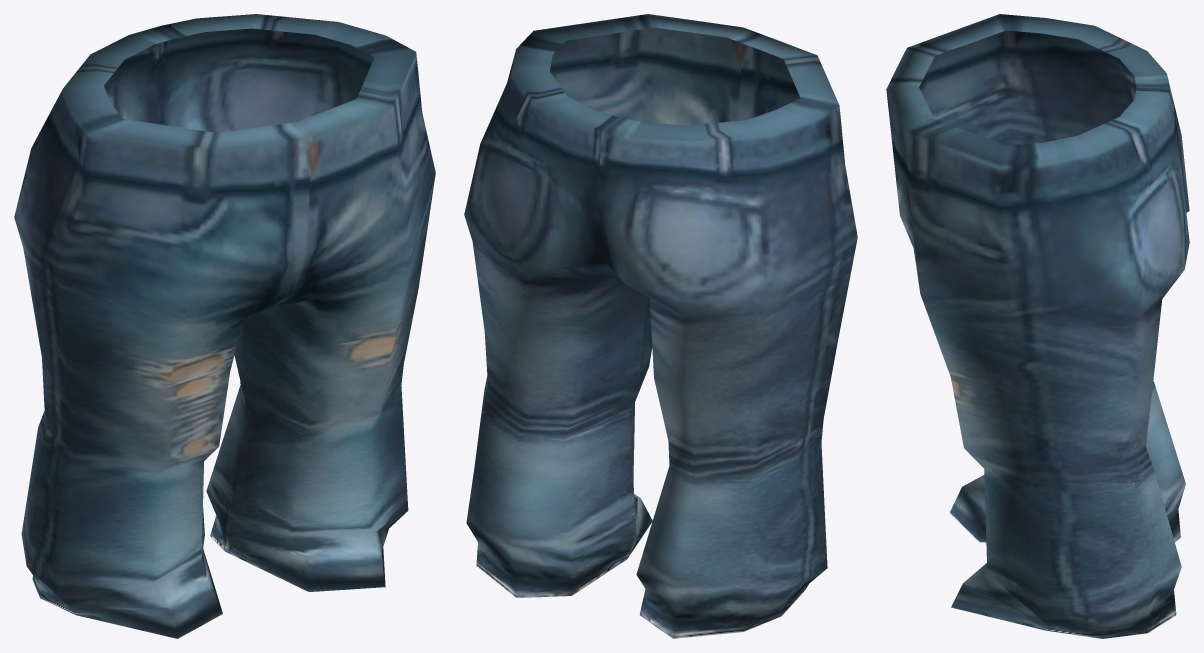
File: AF_M_Trousers_G_04.fbx
3 renders of one model, left to right at view 1: azimuth 30°, elevation 25°; view 2: azimuth 150°, elevation 25°; view 3: azimuth 270°, elevation 25°, orthographic. The views are drawn at different scales.
Parts seen in each view (by area): view 1: AF_M_Trousers_G_04; view 2: AF_M_Trousers_G_04; view 3: AF_M_Trousers_G_04.
Boxes of the visible parts, x1,y1,x2,y2 form: AF_M_Trousers_G_04: [14, 14, 435, 638]; AF_M_Trousers_G_04: [464, 14, 857, 638]; AF_M_Trousers_G_04: [886, 14, 1189, 638].
Bounding box in the file's own units: 354 × 468 × 263.
